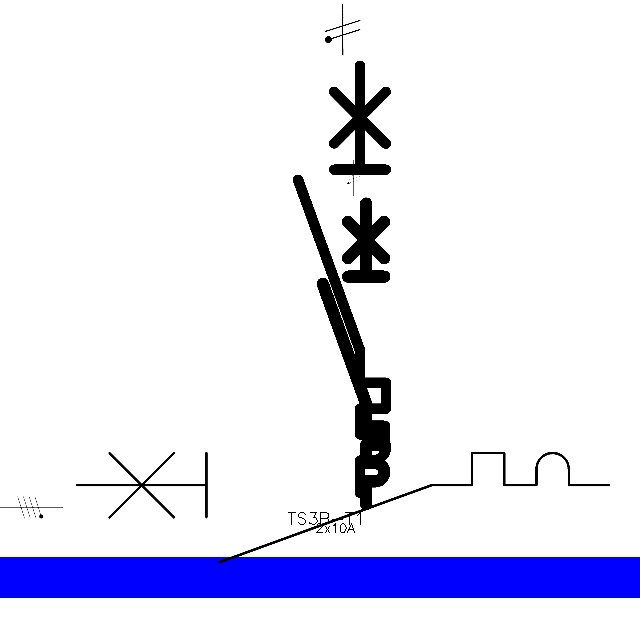interruptor_termomagnetico: (63, 439, 623, 576), (287, 54, 397, 503), (315, 195, 392, 511)
